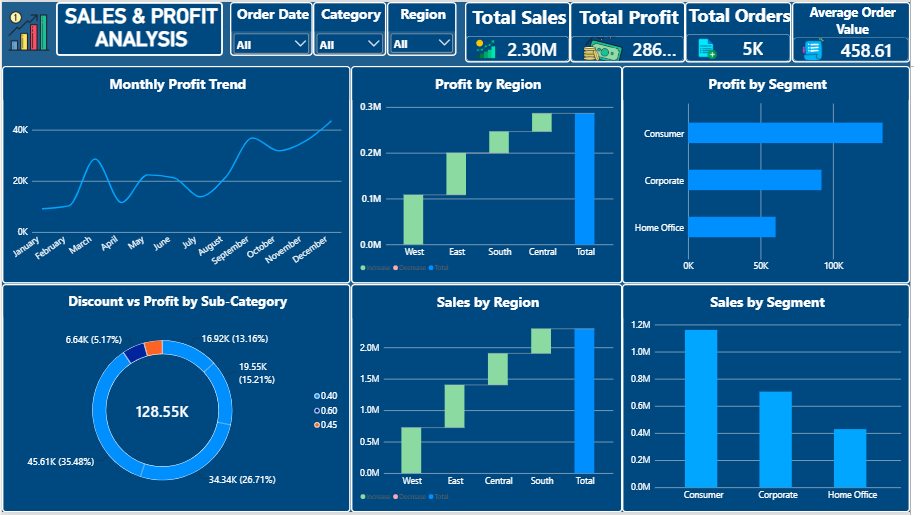

The dashboard page shown, as its layout file describes it:
{"tool":"powerbi","page":{"name":"Sales & Profit Analysis","canvas":[1920,1080],"ordinal":1},"visuals":[{"type":"waterfallChart","title":"Sales by Region","fields":{"Category":["Superstore.Region"],"Y":["Superstore.Total Sales"]},"box":[737,596.6,573.9,483.1],"z":0},{"type":"waterfallChart","title":"Profit by Region","fields":{"Category":["Superstore.Region"],"Y":["Superstore.Total Profit"]},"box":[737,136.3,573.9,460.4],"z":1000},{"type":"clusteredColumnChart","title":"Sales by Segment","fields":{"Category":["Superstore.Segment"],"Y":["Superstore.Total Sales"]},"box":[1311,596.6,609,483.1],"z":2000},{"type":"barChart","title":"Profit by Segment","fields":{"Category":["Superstore.Segment"],"Y":["Superstore.Total Profit"]},"box":[1311,136.3,609,460.4],"z":3000},{"type":"donutChart","title":"Discount vs Profit by Sub-Category","fields":{"Category":["Superstore.Discount"],"Series":["Superstore.Sub-Category"],"Y":["Sum(Superstore.Sales)"]},"box":[0,596.6,737,483.1],"z":4000},{"type":"lineChart","title":"Monthly Profit Trend","fields":{"Category":["Superstore.Order Date.Variation.Date Hierarchy.Month"],"Y":["Superstore.Total Profit"]},"box":[0,136.3,737,460.4],"z":5000},{"type":"cardVisual","title":"Average Order Value","fields":{"Data":["Superstore.Average Order Value"]},"box":[1670.2,0,249.8,128],"z":6000},{"type":"cardVisual","title":"Total Sales","fields":{"Data":["Superstore.Total Sales"]},"box":[978.6,0,223,128],"z":7000},{"type":"cardVisual","title":"Total Profit","fields":{"Data":["Superstore.Total Profit"]},"box":[1201.5,0,243.6,128],"z":8000},{"type":"cardVisual","title":"Total Orders","fields":{"Data":["Superstore.Total Orders"]},"box":[1445.2,0,225,128],"z":9000},{"type":"textbox","title":"SALES & PROFIT ANALYSIS ","box":[113.5,0,353,113.5],"z":10000},{"type":"slicer","title":"Order Date","fields":{"Values":["Superstore.Order Date"]},"box":[483.1,0,175.5,113.5],"z":11000},{"type":"slicer","title":"Region","fields":{"Values":["Superstore.Region"]},"box":[813.4,0,146.6,113.5],"z":12000},{"type":"slicer","title":"Category","fields":{"Values":["Superstore.Category"]},"box":[658.6,0,154.8,113.5],"z":13000},{"type":"image","box":[0,0,113.5,128],"z":14000}]}

Visuals, with their boxes in screenshot pixels (x1, y1, x2, y2), scaled from the page's 1920x1080 canvas onto the 914x515 screenshot:
"Sales by Region" waterfallChart: select_region(351, 284, 624, 514)
"Profit by Region" waterfallChart: select_region(351, 65, 624, 285)
"Sales by Segment" clusteredColumnChart: select_region(624, 284, 913, 514)
"Profit by Segment" barChart: select_region(624, 65, 913, 285)
"Discount vs Profit by Sub-Category" donutChart: select_region(0, 284, 351, 514)
"Monthly Profit Trend" lineChart: select_region(0, 65, 351, 285)
"Average Order Value" cardVisual: select_region(795, 0, 913, 61)
"Total Sales" cardVisual: select_region(466, 0, 572, 61)
"Total Profit" cardVisual: select_region(572, 0, 688, 61)
"Total Orders" cardVisual: select_region(688, 0, 795, 61)
"SALES & PROFIT ANALYSIS " textbox: select_region(54, 0, 222, 54)
"Order Date" slicer: select_region(230, 0, 314, 54)
"Region" slicer: select_region(387, 0, 457, 54)
"Category" slicer: select_region(314, 0, 387, 54)
image: select_region(0, 0, 54, 61)
